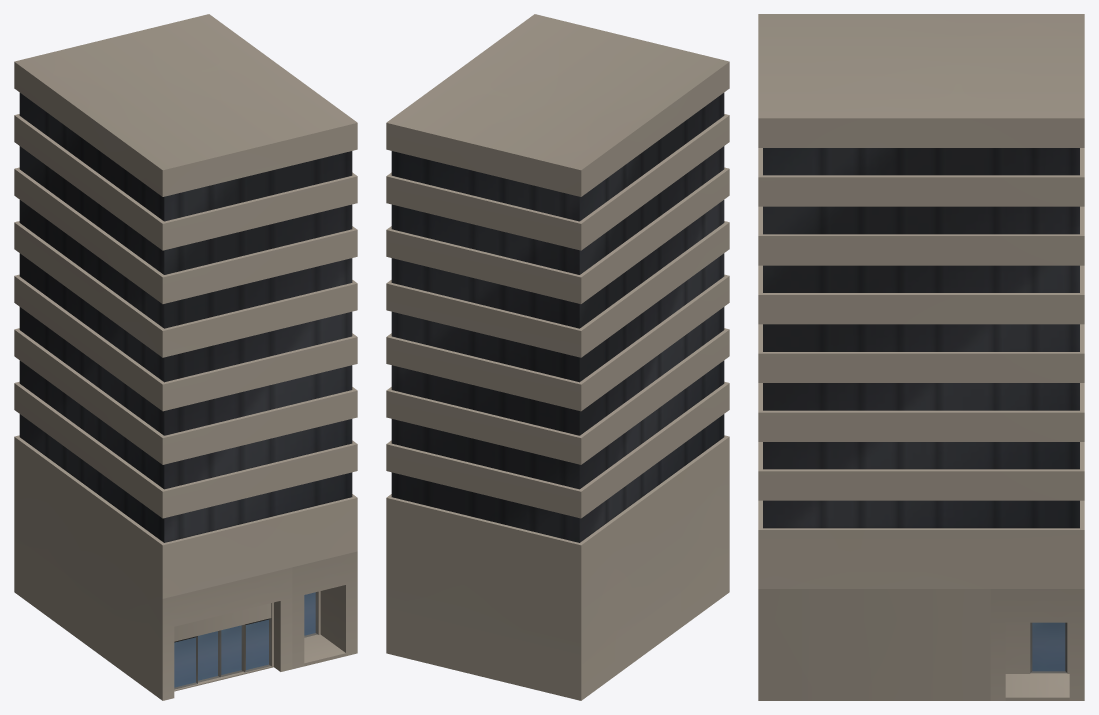
File: Bld_Building_JC.fbx
The picture shows the model from 3 angles, left to right: view 1: azimuth 30°, elevation 25°; view 2: azimuth 150°, elevation 25°; view 3: azimuth 270°, elevation 25°; orthographic projection. The views are drawn at different scales.
Parts seen in each view (by area): view 1: Bld_Building_JC; view 2: Bld_Building_JC; view 3: Bld_Building_JC.
Boxes of the visible parts, left/top/right/bottom form: Bld_Building_JC: left=14, top=14, right=357, bottom=700; Bld_Building_JC: left=386, top=14, right=729, bottom=700; Bld_Building_JC: left=758, top=14, right=1084, bottom=700.
Bounding box in the file's own units: 1000 × 2600 × 1320.
